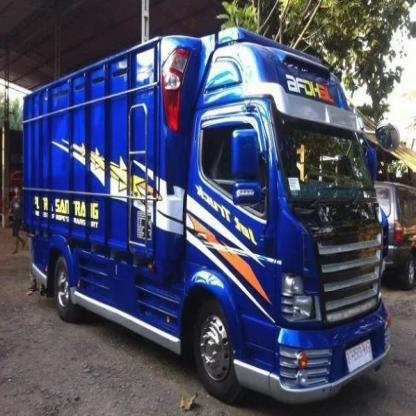truck: (24, 27, 391, 400)
